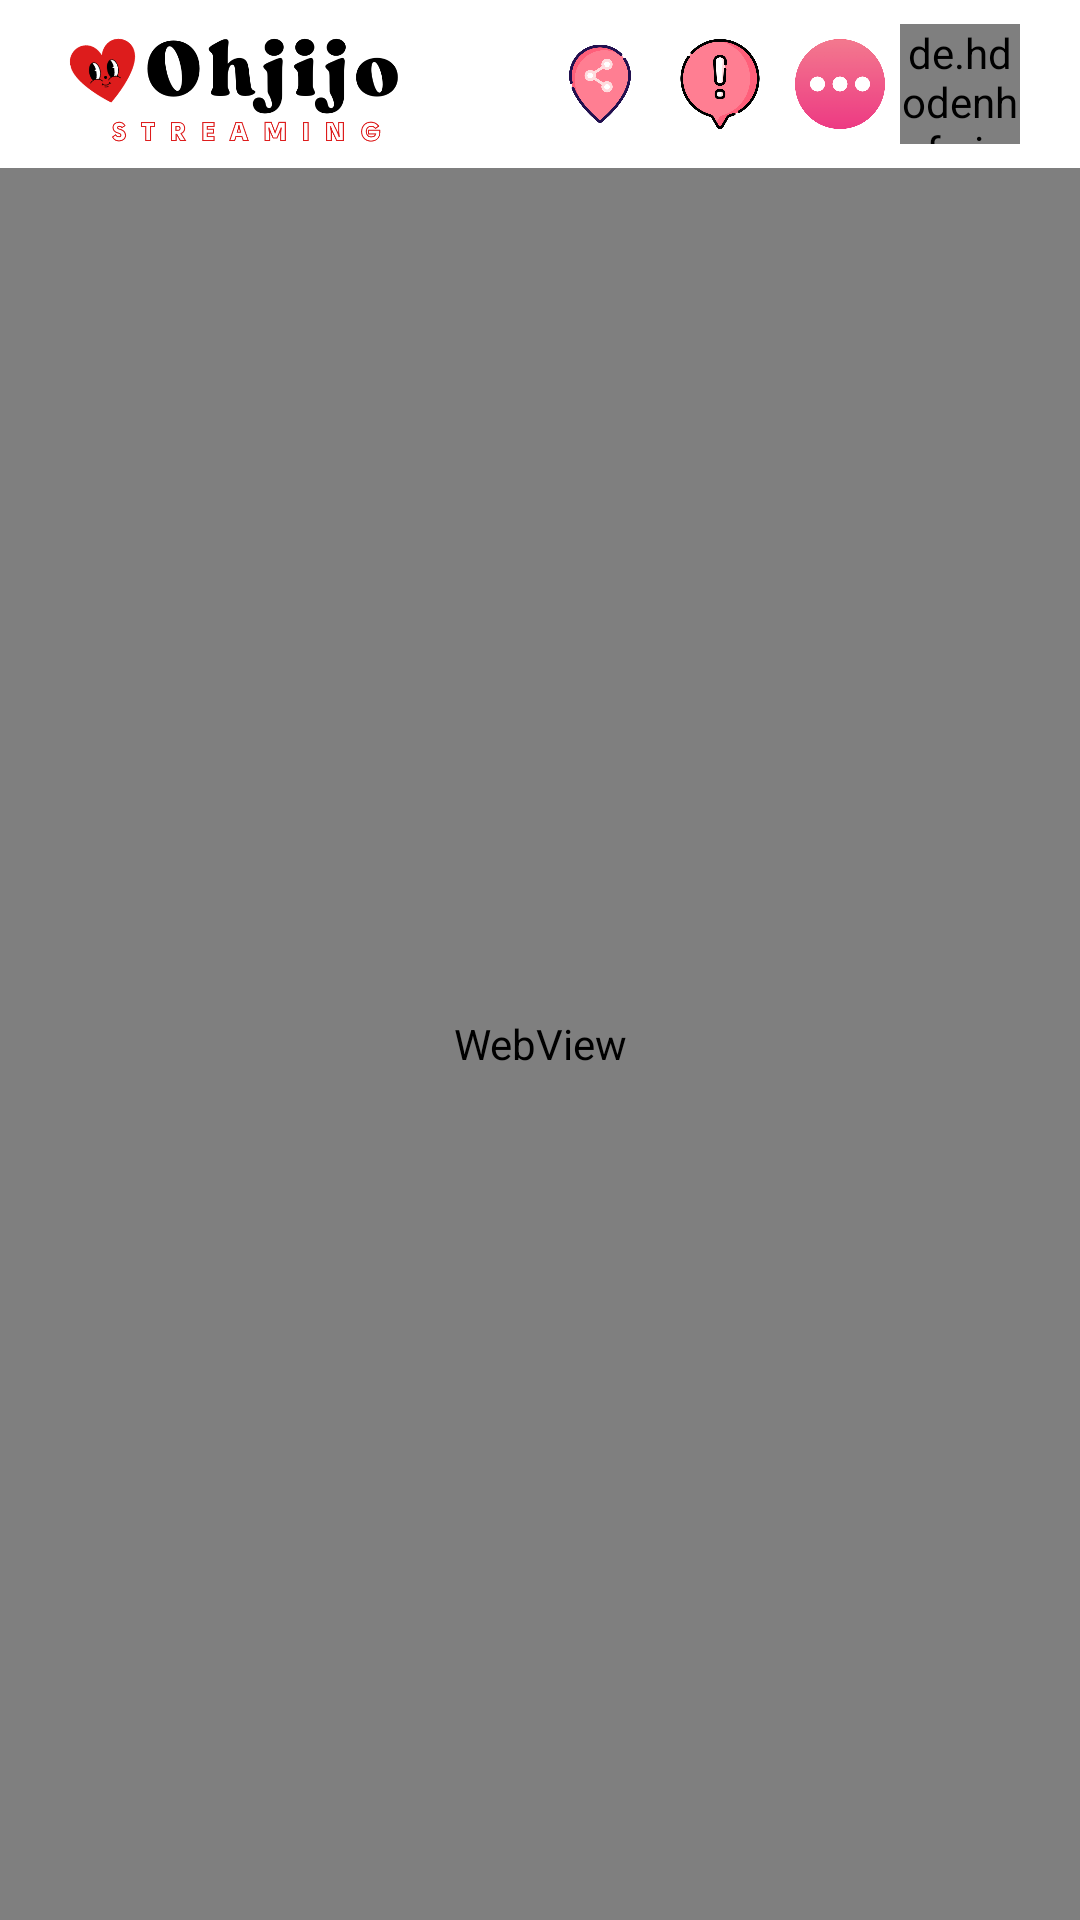

Icon bounding boxes for this 1080 x 1920 phone screenshot, format (x1, y1, x2, y2):
video detail infomation: (680, 39, 760, 129)
video detail more: (795, 39, 885, 129)
video detail shared: (569, 45, 631, 123)
